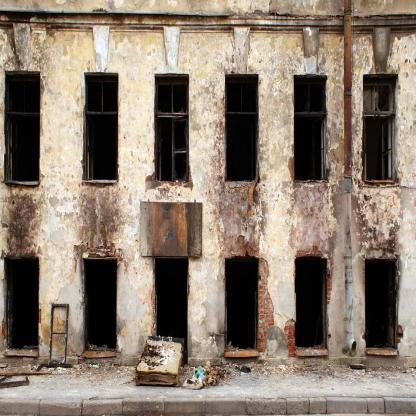Building Outline: (1, 1, 416, 368)
Deco: (140, 202, 203, 258)
Dont: (135, 336, 185, 386), (41, 303, 72, 367)
Facade: (1, 1, 416, 368)
Floor: (1, 37, 416, 208), (1, 0, 416, 25)
Floor Slab: (1, 25, 416, 37), (1, 208, 416, 220)
Ground Floor: (1, 220, 416, 367)
Sill: (4, 350, 39, 357), (225, 350, 259, 357), (296, 349, 328, 356), (83, 352, 116, 358), (365, 350, 398, 355)
Window: (5, 72, 40, 183), (83, 72, 118, 183), (154, 74, 189, 182), (363, 75, 398, 182), (225, 74, 258, 182), (294, 75, 327, 182), (6, 257, 39, 349), (225, 257, 258, 349), (84, 257, 117, 349), (295, 257, 326, 349), (365, 258, 395, 348)
